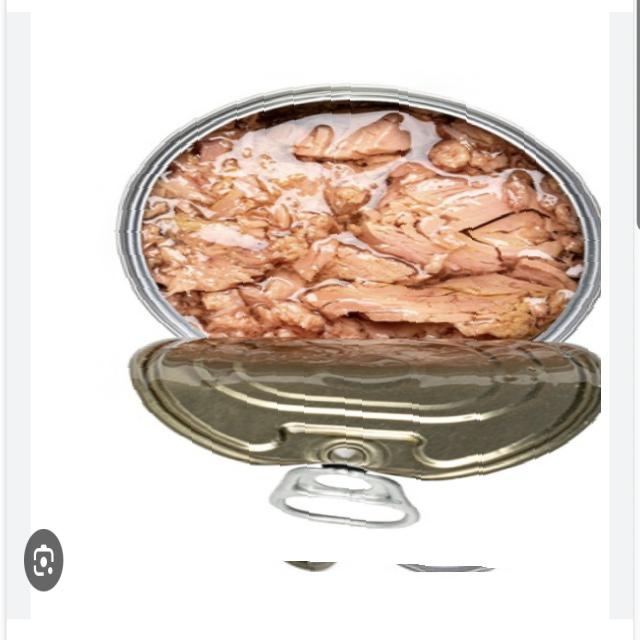recyclable: (93, 63, 601, 572)
